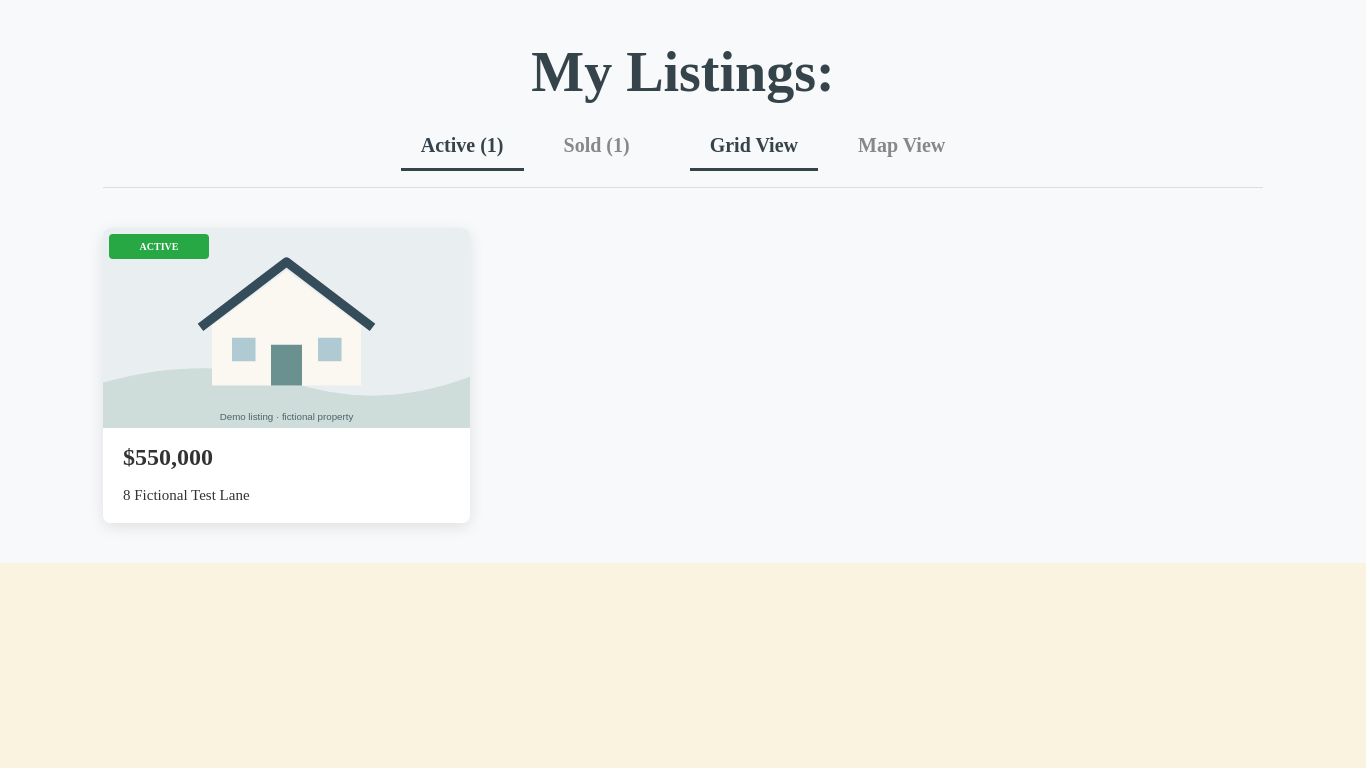
Test: loads local active and sold fixtures and displays the date in the badge
Expected: the text "8 Fictional Test Lane" is shown, x1=123 y1=487 x2=250 y2=503
Click the button "Sold (1)" at {"x": 597, "y": 146}, box x1=544 y1=124 x2=650 y2=167
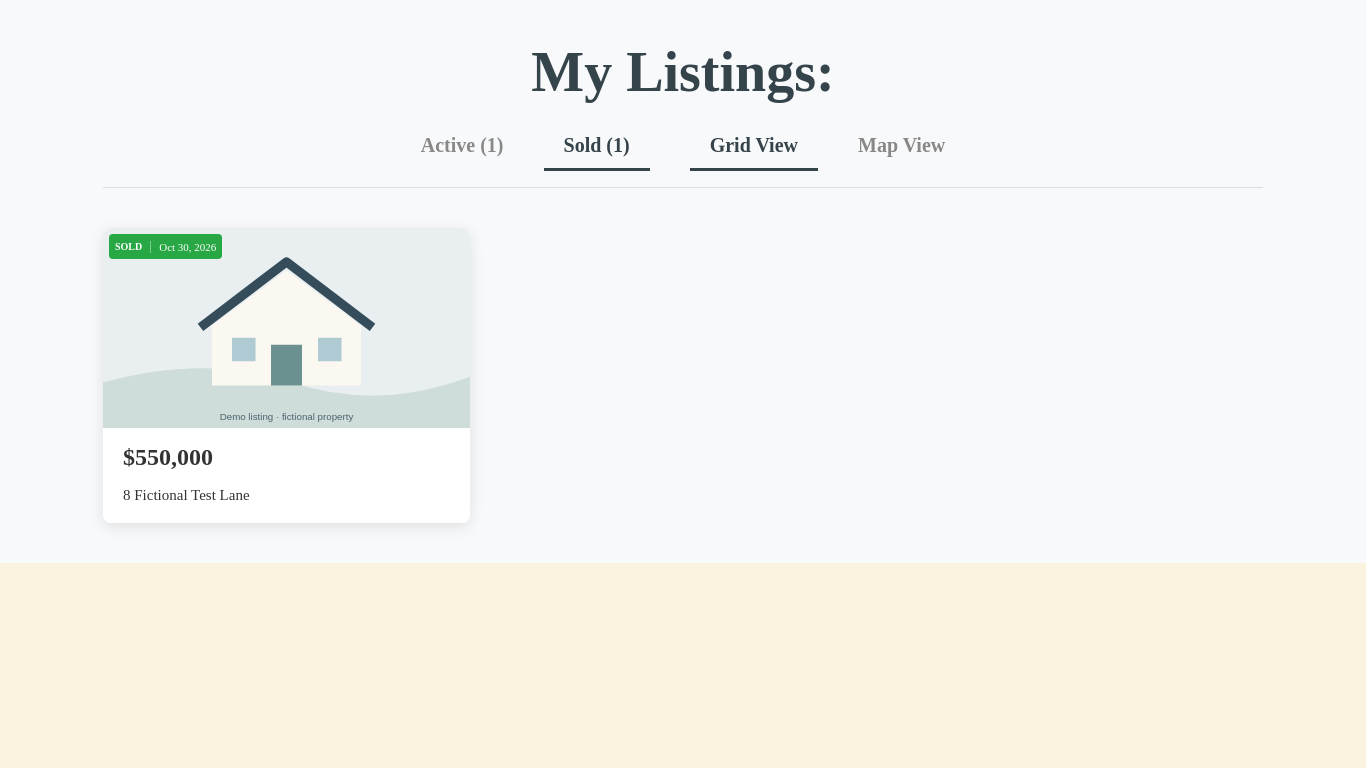
Now the text "Oct 30, 2026" shows "Sold", box x1=115 y1=241 x2=142 y2=252
